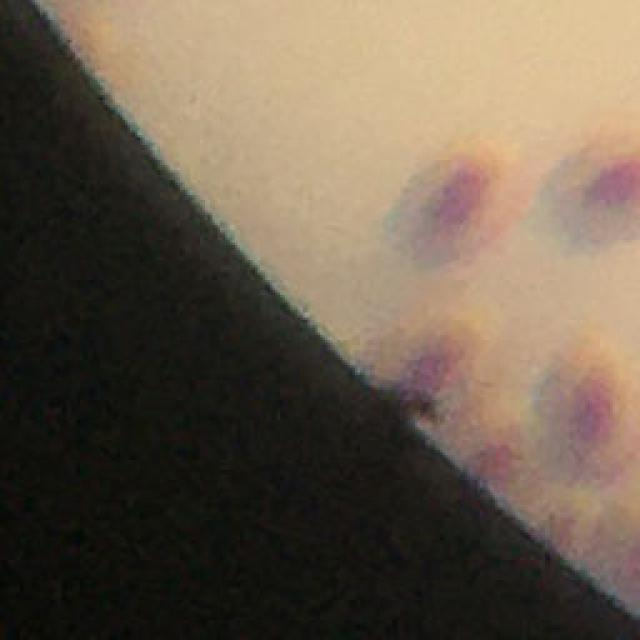RBC: (384, 134, 525, 272), (524, 335, 640, 487), (525, 132, 640, 257)
